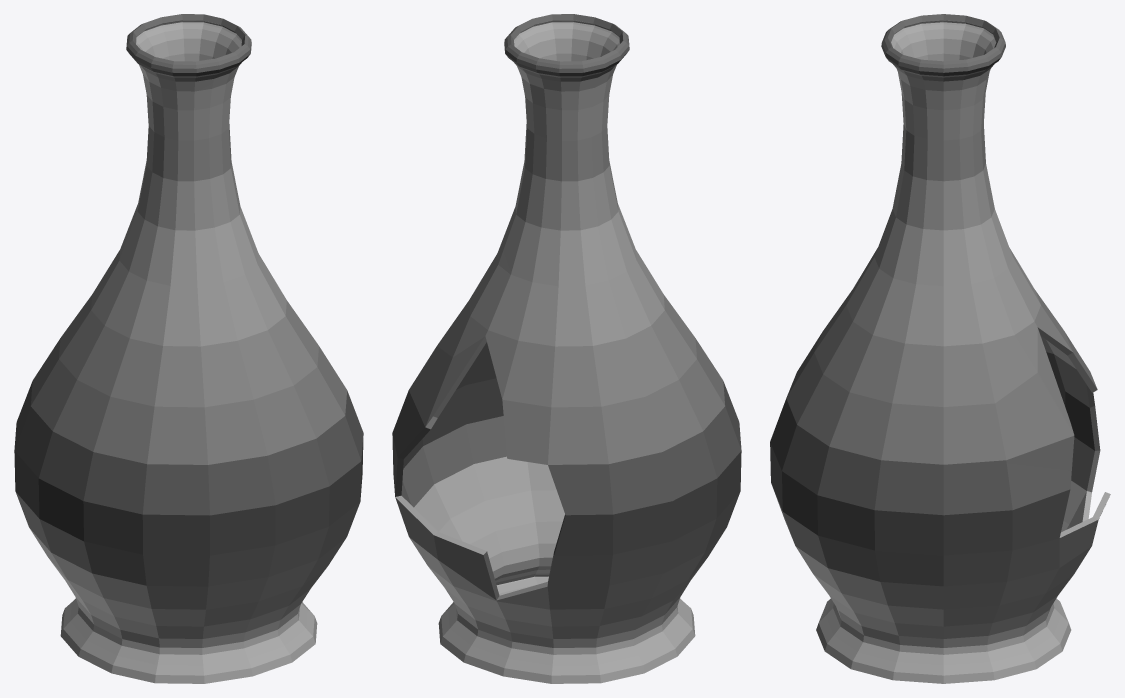
File: VaseModel.fbx
3 views of the same model, side by side, from view 1: azimuth 30°, elevation 25°; view 2: azimuth 150°, elevation 25°; view 3: azimuth 270°, elevation 25° (orthographic).
Visible parts, largest first — view 1: BrokenVaseModel; view 2: BrokenVaseModel; view 3: BrokenVaseModel.
Part boxes in pixels (<box>): BrokenVaseModel: <box>14,14,363,683</box>; BrokenVaseModel: <box>392,14,741,683</box>; BrokenVaseModel: <box>770,14,1110,683</box>.
Bounding box in the file's own units: 41.13 × 78.81 × 40.36.
